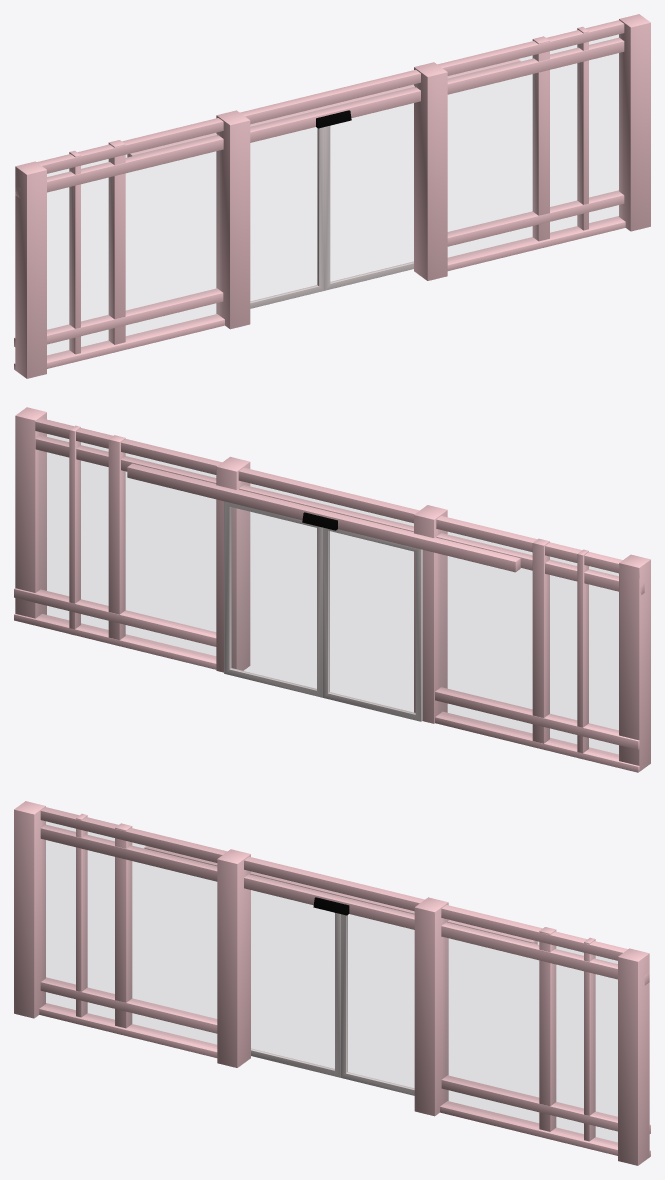
File: entrance_door.fbx
3 views of the same model, one above another, from view 1: azimuth 30°, elevation 25°; view 2: azimuth 150°, elevation 25°; view 3: azimuth 330°, elevation 25° (orthographic).
Parts seen in each view (by area): view 1: Cube.038, Cube.063, Cube.058, Cube.083, Cube.097, Cube.064, Cube.096, Cube; view 2: Cube.038, Cube.063, Cube.058, Cube.064, Cube.096, Cube.097, Cube.083, Cube; view 3: Cube.038, Cube.063, Cube.058, Cube.097, Cube.083, Cube.096, Cube.064, Cube.
Part boxes in pixels (bbox=[...]): Cube.038: bbox=[47, 34, 620, 357]; Cube.063: bbox=[14, 20, 625, 369]; Cube.058: bbox=[250, 103, 413, 308]; Cube.083: bbox=[216, 110, 250, 329]; Cube.097: bbox=[414, 62, 447, 280]; Cube.064: bbox=[15, 161, 46, 378]; Cube.096: bbox=[619, 14, 650, 231]; Cube: bbox=[251, 84, 417, 128]; Cube.038: bbox=[39, 432, 618, 756]; Cube.063: bbox=[14, 418, 644, 772]; Cube.058: bbox=[224, 501, 422, 721]; Cube.064: bbox=[619, 554, 650, 771]; Cube.096: bbox=[15, 407, 46, 618]; Cube.097: bbox=[216, 456, 250, 672]; Cube.083: bbox=[414, 505, 447, 723]; Cube: bbox=[242, 482, 413, 527]; Cube.038: bbox=[44, 821, 617, 1144]; Cube.063: bbox=[39, 807, 650, 1156]; Cube.058: bbox=[251, 890, 414, 1095]; Cube.097: bbox=[414, 897, 448, 1116]; Cube.083: bbox=[217, 849, 250, 1067]; Cube.096: bbox=[618, 948, 649, 1165]; Cube.064: bbox=[14, 801, 45, 1018]; Cube: bbox=[247, 871, 413, 915].
Bounding box in the file's own units: 1187 × 371 × 65.67.
